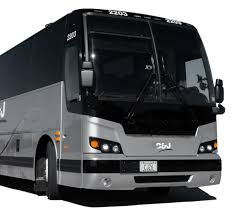bus: (1, 7, 225, 200)
